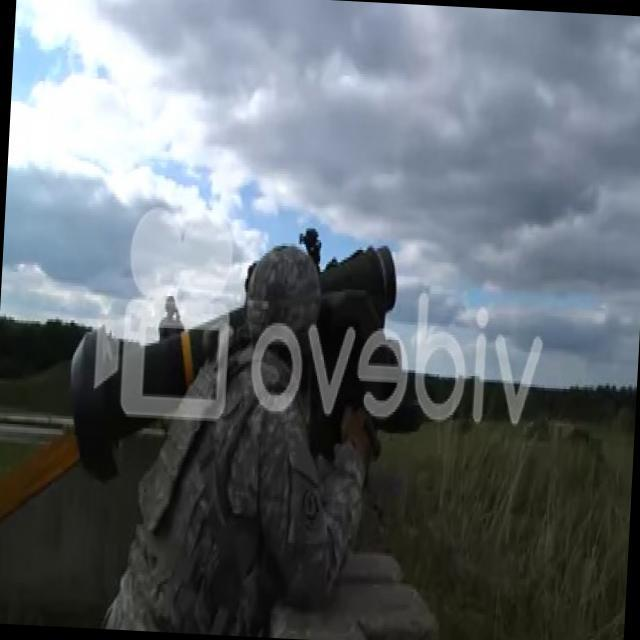rocket: (71, 230, 399, 492)
